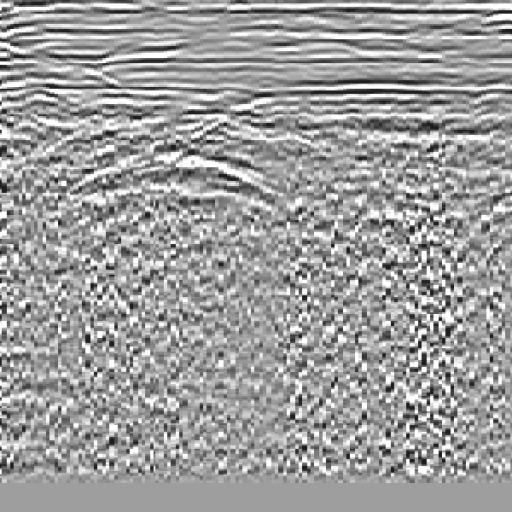metalic: (420, 86, 512, 310)
non-metallic: (45, 132, 302, 234)
